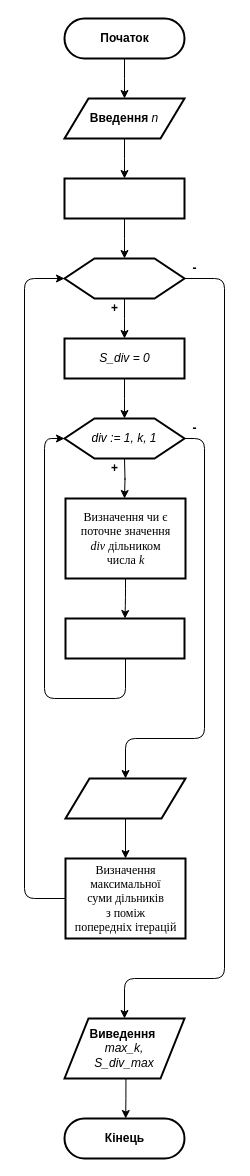
This 250x1176 diagram has some shape labels left out. The shapes that lost their labels are listed below. From the top down, each one's centre as x and y in pixels, then its label:
(x=124, y=198): S_div_max = 0, max_k = 1
(x=124, y=278): k := 1, n, 1
(x=124, y=638): Знайдення суми дільників
(x=125, y=798): Виведення k, S_div
